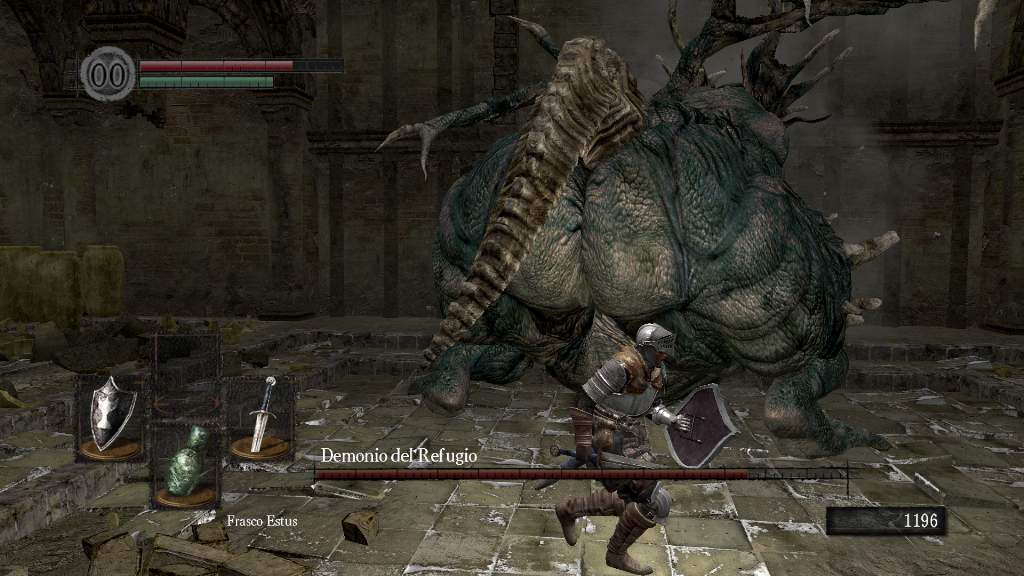asylumDemon: (376, 3, 905, 454)
bossHP: (314, 469, 847, 479)
health: (138, 58, 343, 71)
humanity: (80, 45, 136, 102)
player: (554, 321, 740, 576)
souls: (825, 506, 945, 536)
stamina: (138, 74, 274, 88)
